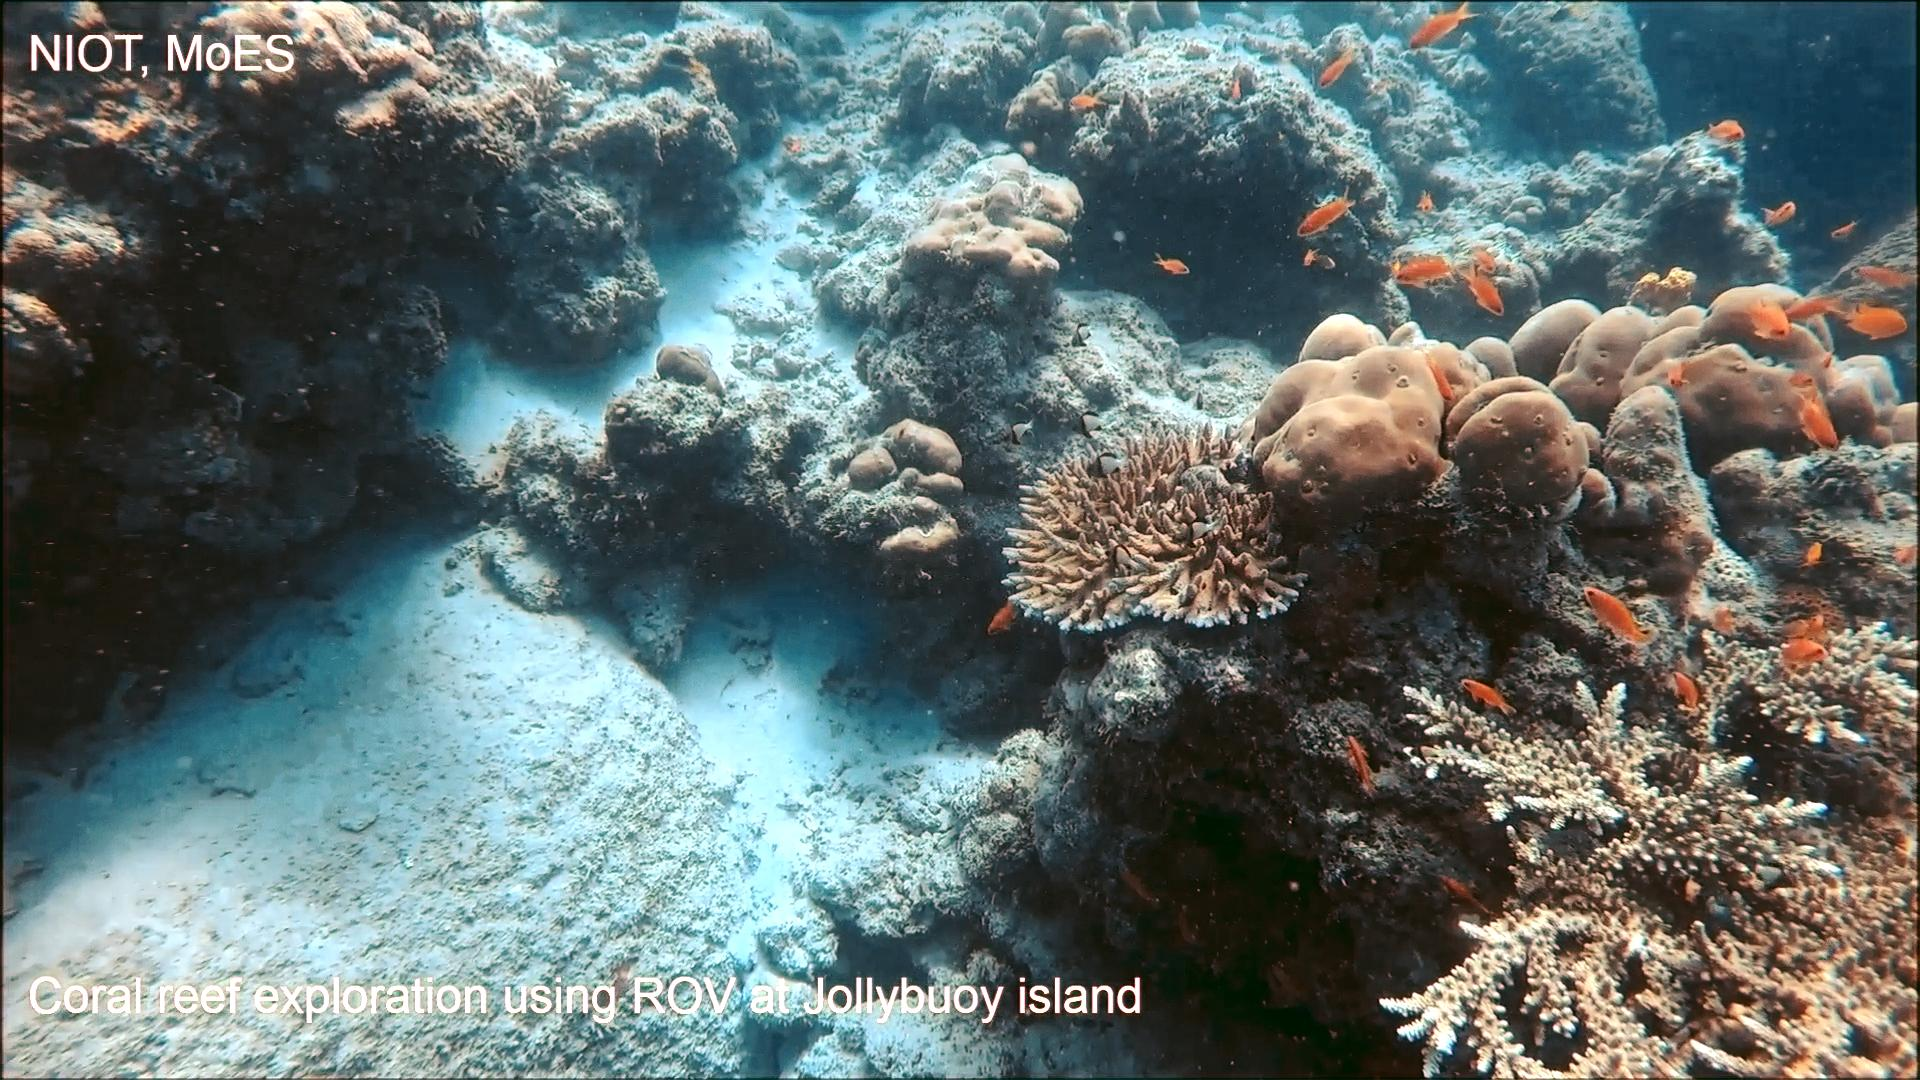Porites-Porites pukoensis: (1240, 305, 1593, 538), (1501, 278, 1920, 468)
